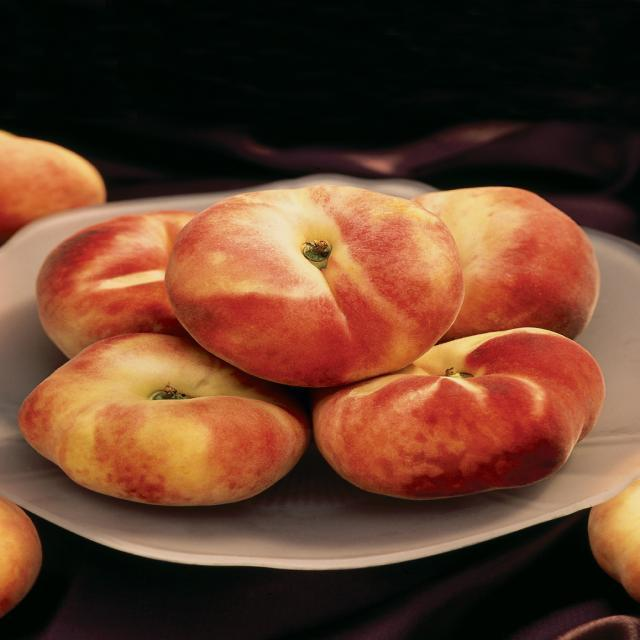Apple: (163, 184, 464, 388), (310, 326, 604, 501), (17, 332, 310, 507), (410, 185, 600, 343), (35, 209, 200, 360), (3, 126, 112, 241), (586, 469, 639, 603), (0, 494, 46, 618)
